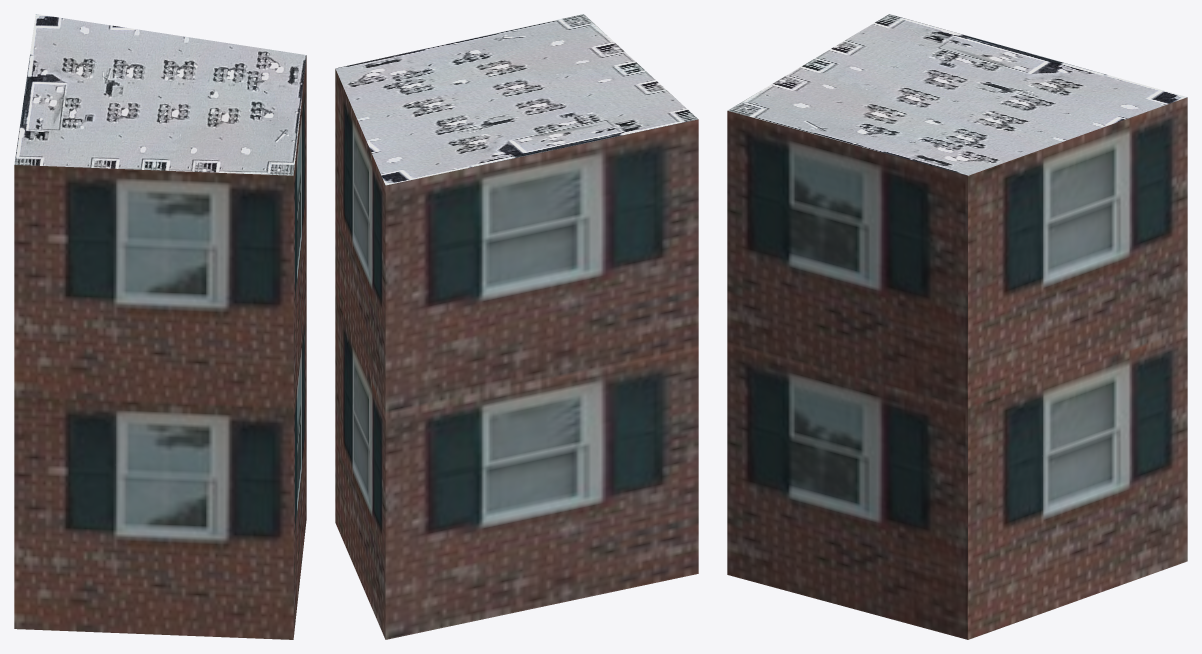
File: ResTex__3717.fbx
3 views of the same model, side by side, from view 1: azimuth 30°, elevation 25°; view 2: azimuth 150°, elevation 25°; view 3: azimuth 270°, elevation 25° (orthographic). The views are drawn at different scales.
Parts seen in each view (by area): view 1: CityEngineMaterial_14_m, CityEngineMaterial_m; view 2: CityEngineMaterial_14_m, CityEngineMaterial_m; view 3: CityEngineMaterial_14_m, CityEngineMaterial_m.
Part boxes in pixels (x1=…): CityEngineMaterial_14_m: x1=14, y1=56, x2=306, y2=639; CityEngineMaterial_m: x1=14, y1=14, x2=306, y2=175; CityEngineMaterial_14_m: x1=335, y1=69, x2=698, y2=639; CityEngineMaterial_m: x1=335, y1=14, x2=697, y2=185; CityEngineMaterial_14_m: x1=727, y1=97, x2=1187, y2=639; CityEngineMaterial_m: x1=727, y1=14, x2=1186, y2=175.
Bounding box in the file's own units: 4.49 × 6 × 5.39.
Materials: 2 (2 with a texture image).
